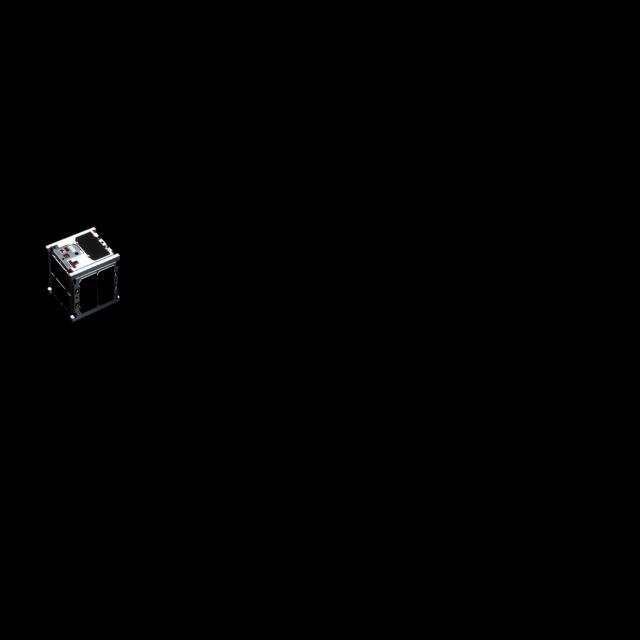medium_debris: (42, 223, 128, 325)
